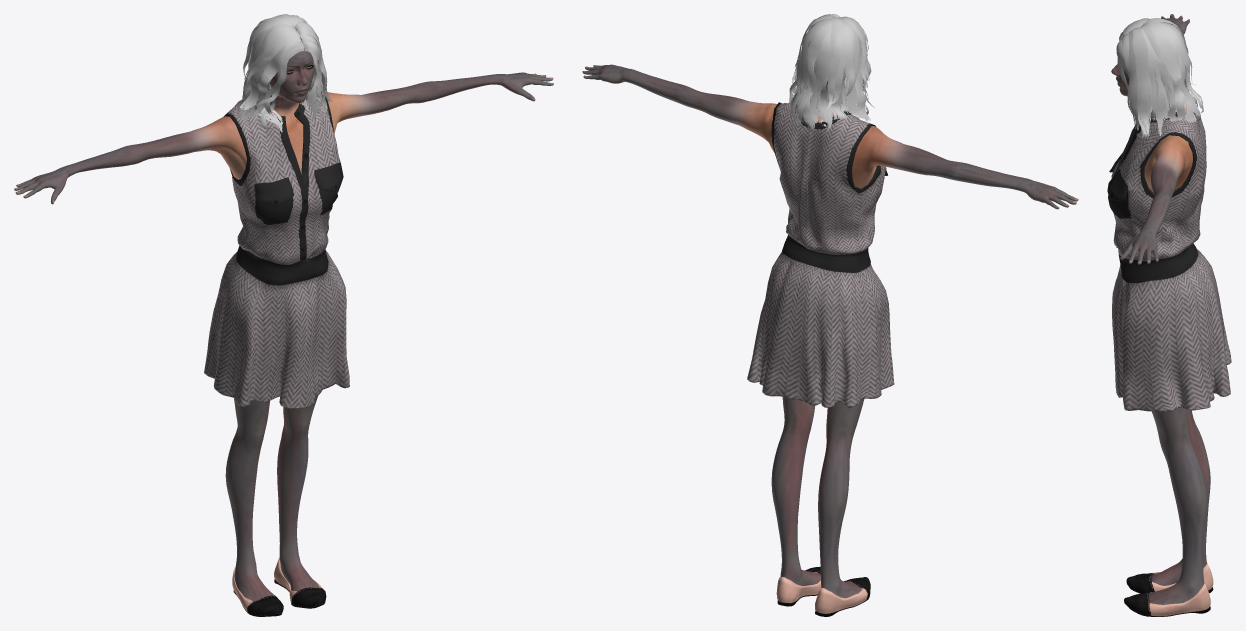
File: VampireModel1.obj
The picture shows the model from 3 angles, left to right: view 1: azimuth 30°, elevation 25°; view 2: azimuth 150°, elevation 25°; view 3: azimuth 270°, elevation 25°; orthographic projection. The views are drawn at different scales.
Visible parts, largest first — view 1: Tops, Body, Hair, Shoes; view 2: Tops, Body, Hair, Shoes; view 3: Tops, Body, Hair, Shoes.
Boxes of the visible parts, bbox=[...] form: Tops: bbox=[204, 91, 349, 408]; Body: bbox=[14, 37, 553, 601]; Hair: bbox=[237, 14, 333, 133]; Shoes: bbox=[232, 557, 326, 616]; Tops: bbox=[747, 102, 894, 407]; Body: bbox=[582, 64, 1078, 598]; Hair: bbox=[789, 14, 874, 133]; Shoes: bbox=[776, 566, 870, 616]; Tops: bbox=[1107, 112, 1231, 411]; Body: bbox=[1111, 14, 1210, 604]; Hair: bbox=[1116, 18, 1203, 141]; Shoes: bbox=[1124, 563, 1213, 616].
Bounding box in the file's own units: 156 × 169 × 32.74.
